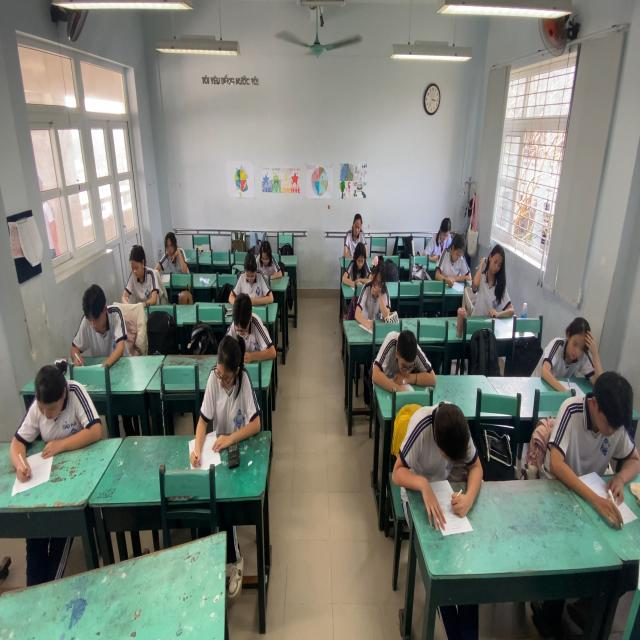not_cheating: (544, 371, 640, 482), (21, 358, 93, 458), (400, 399, 479, 482), (536, 316, 598, 385), (72, 284, 124, 364), (211, 336, 252, 436), (379, 326, 435, 395), (476, 244, 511, 319), (229, 298, 270, 361), (365, 254, 396, 326), (234, 251, 272, 309), (153, 226, 192, 282), (120, 247, 157, 298), (439, 237, 470, 288), (424, 212, 454, 261), (344, 208, 369, 254), (351, 243, 371, 288), (258, 243, 279, 284)
